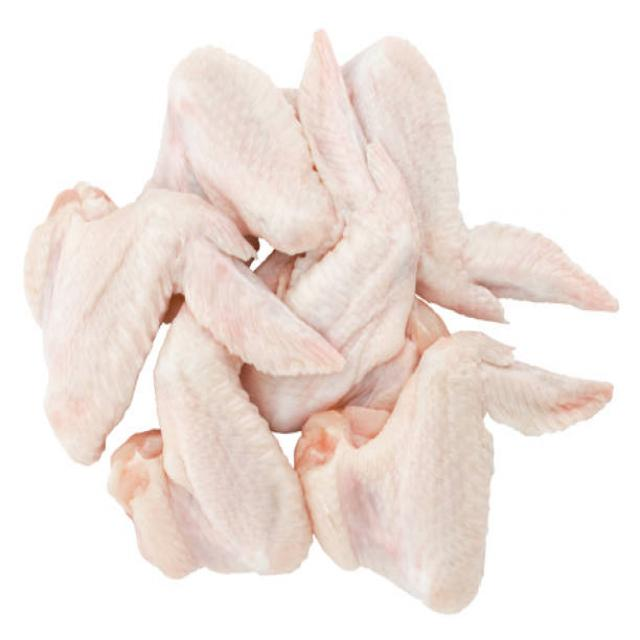Chicken Wing: (323, 328, 616, 616), (363, 28, 628, 324), (32, 188, 336, 445)
